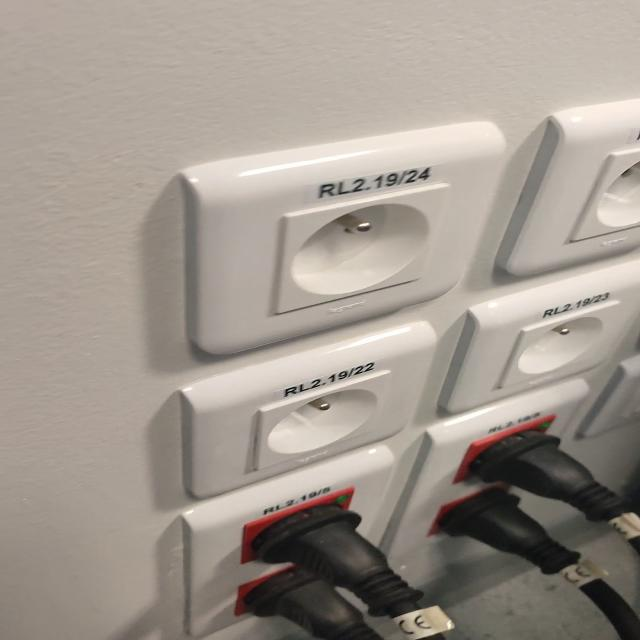house plug: (270, 184, 453, 317), (252, 368, 394, 473), (493, 296, 627, 392), (566, 150, 640, 244)
